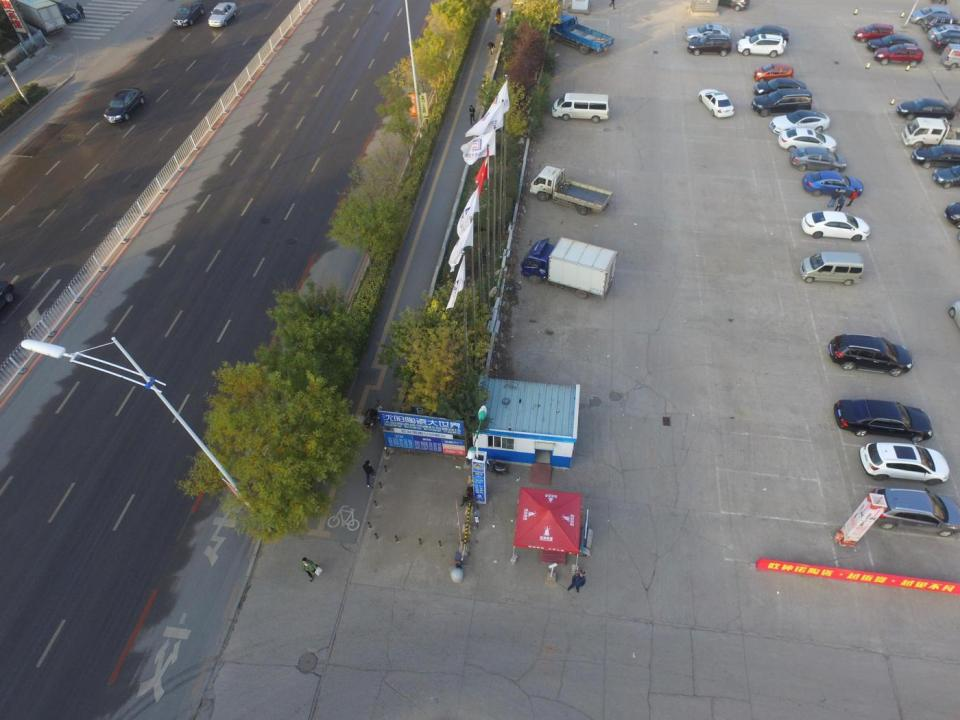car: (865, 487, 960, 537), (832, 398, 933, 444), (826, 332, 913, 378), (857, 443, 951, 485), (804, 210, 872, 241), (803, 170, 865, 198), (769, 111, 830, 136), (751, 89, 814, 113), (104, 88, 144, 124), (777, 129, 836, 153), (895, 98, 956, 121), (791, 149, 847, 172), (698, 87, 736, 118), (873, 44, 924, 67), (911, 143, 960, 165), (739, 34, 785, 57), (686, 34, 733, 56), (746, 24, 792, 45), (754, 80, 807, 98), (170, 0, 204, 27), (684, 21, 732, 40), (910, 5, 954, 25), (208, 3, 240, 29), (45, 0, 80, 23), (754, 62, 792, 82), (854, 22, 892, 41), (870, 35, 920, 49), (933, 166, 960, 190), (922, 14, 960, 31), (932, 32, 960, 51), (926, 24, 960, 37), (718, 0, 750, 10)
truck: (519, 237, 619, 302), (528, 167, 614, 215), (550, 12, 616, 54), (14, 0, 68, 36), (902, 120, 960, 148)
van: (800, 252, 864, 287), (550, 92, 611, 121), (938, 43, 960, 66)
